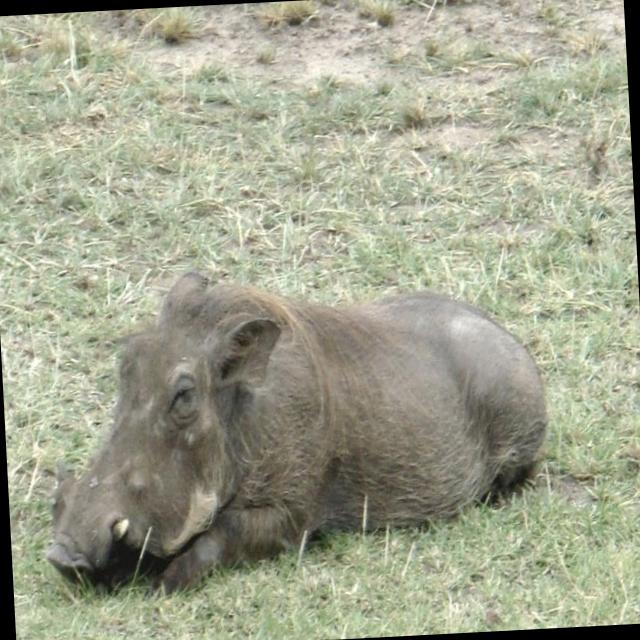pig: (48, 273, 547, 592)
